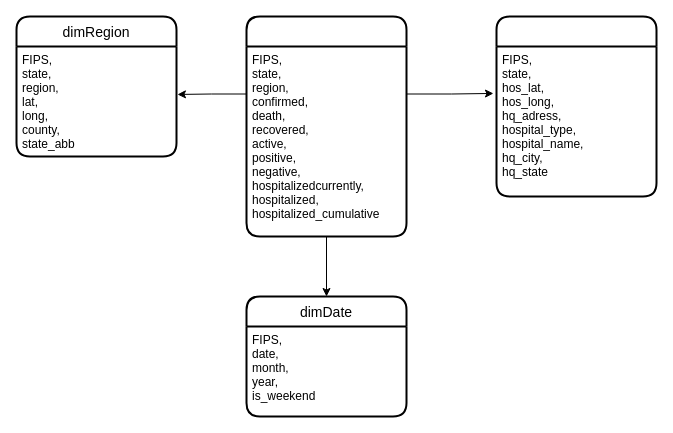
Some shapes in this 673 by 433 pixel diagram are drawn without their labels. Here are the shapes that lost their labels. From the top down, the box of each, then its label:
(245, 15, 407, 237): factCovid
(495, 15, 657, 197): dimHospital
